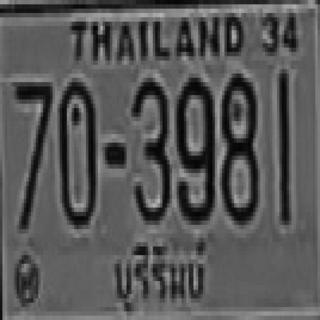N00: (57, 78, 96, 225)
N01: (277, 69, 289, 220)
N03: (131, 74, 170, 220)
N07: (14, 80, 50, 227)
N08: (220, 69, 255, 220)
N09: (174, 74, 213, 220)
P06: (107, 235, 212, 314)
